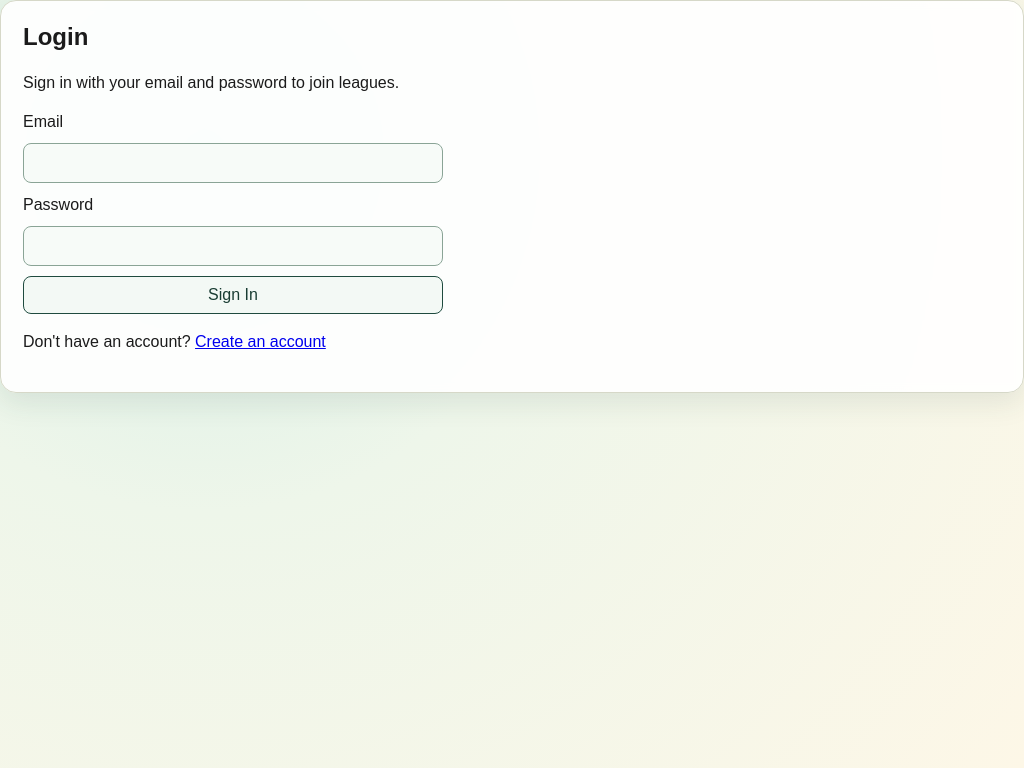
Test: LoginPage › shows API error on failed login
Step 1. Type "alex@example.com" into the field labelled "Email" → (233, 163), box [23,143,443,183]
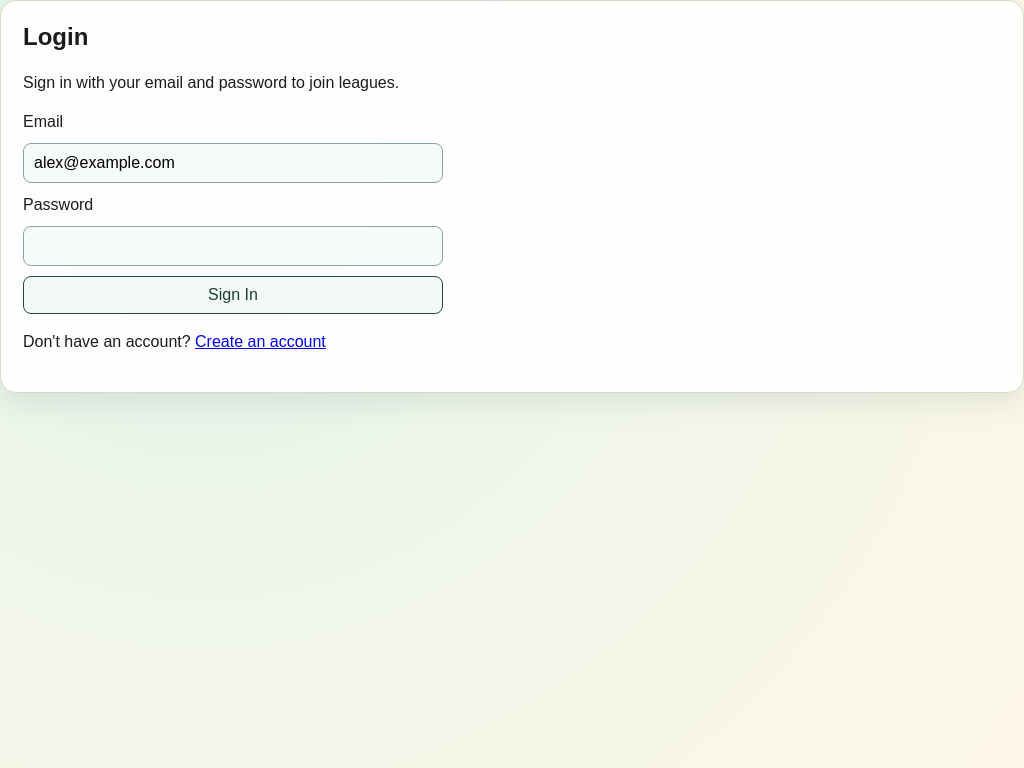
Step 2. Type "bad-pass" into the password field labelled "Password" → (233, 246), box [23,226,443,266]
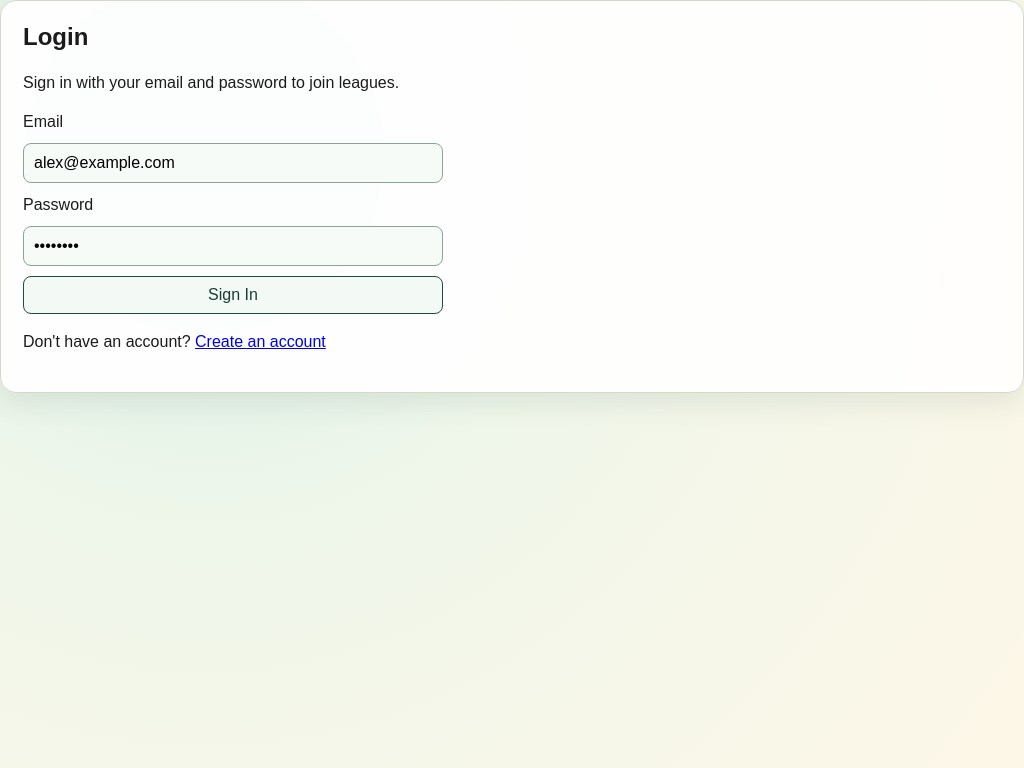
Step 3. Click the button "Sign In" → (233, 296), box [23,276,443,314]
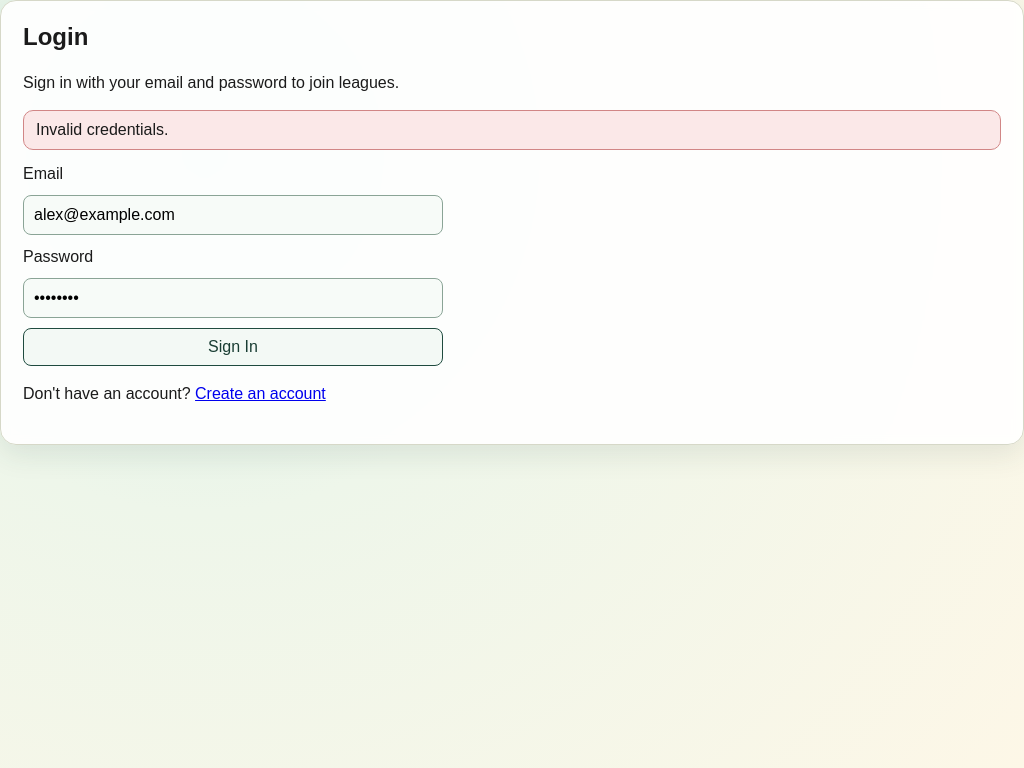
Expected: the text "Invalid credentials." is shown, [23,110,1001,150]
